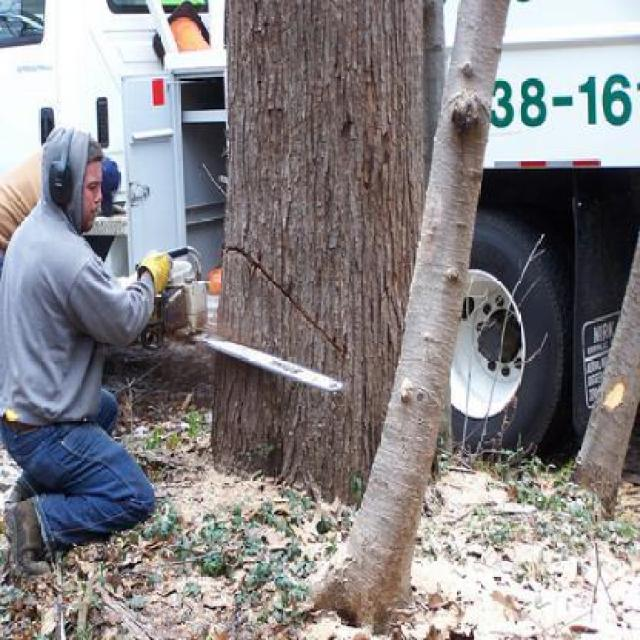Chainsaw: (134, 244, 348, 396)
